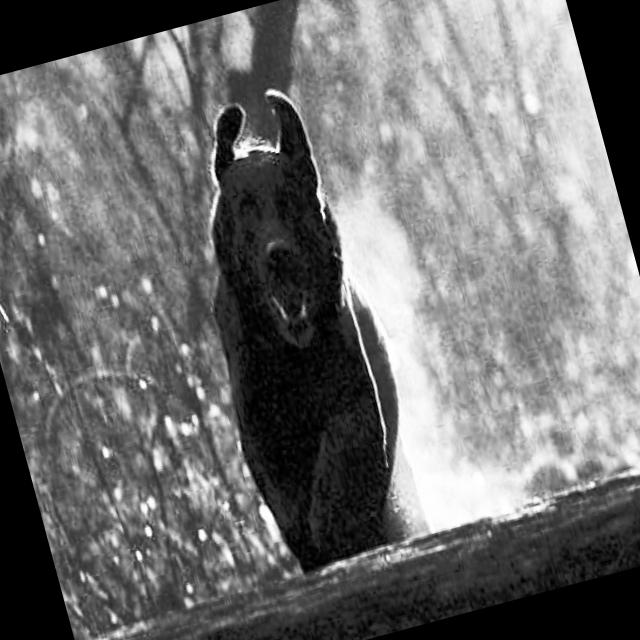Dog: (152, 66, 482, 616)
